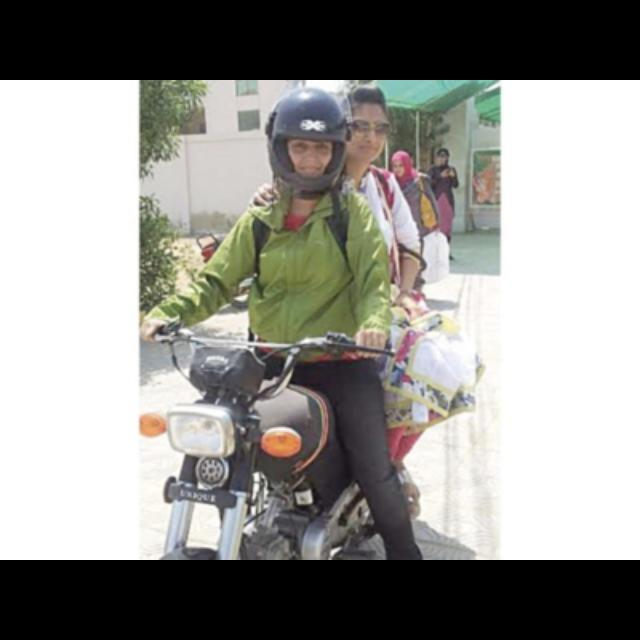With Helmet: (264, 82, 350, 198)
Without Helmet: (343, 86, 389, 160)
